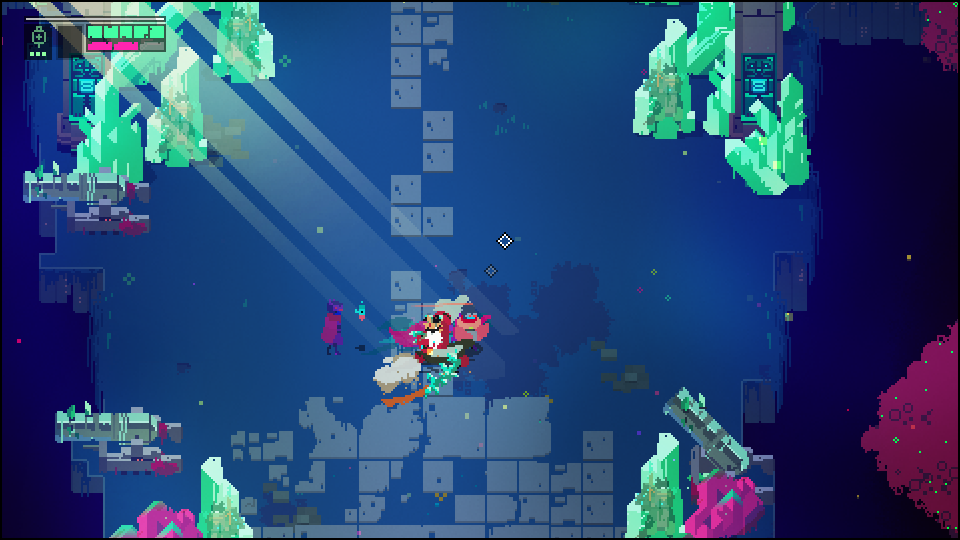hanged_man: (372, 296, 468, 406)
player: (451, 294, 494, 356)
